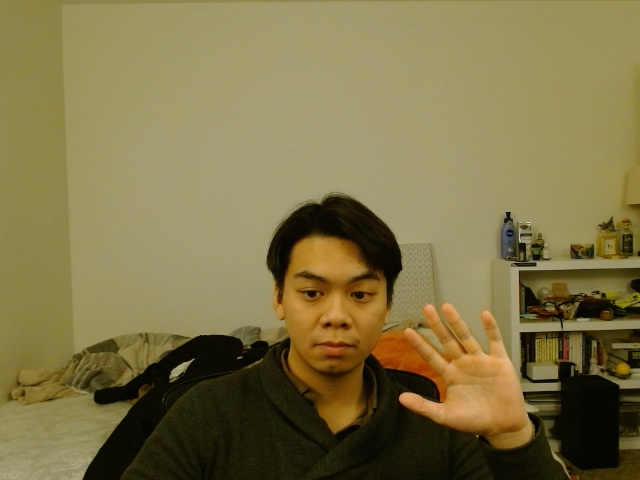Hello: (390, 299, 547, 437)
